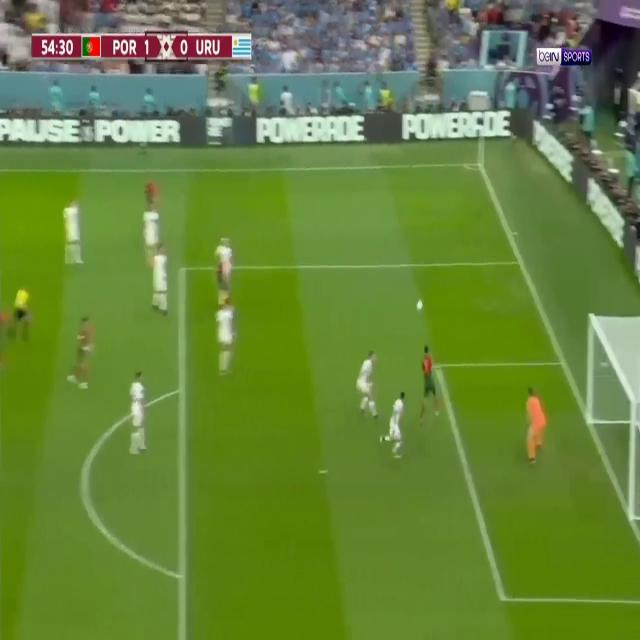Ball: (418, 297, 424, 311)
GoalKeeper: (521, 388, 553, 466)
Referee: (6, 286, 34, 336)
TEAM 1: (70, 318, 98, 388), (420, 347, 442, 418), (216, 260, 233, 304), (143, 176, 163, 208)
TEAM 2: (124, 368, 148, 454), (214, 295, 238, 376), (356, 350, 378, 421), (152, 243, 172, 316), (387, 391, 407, 456), (62, 199, 82, 263), (144, 208, 163, 260), (220, 235, 235, 272)
